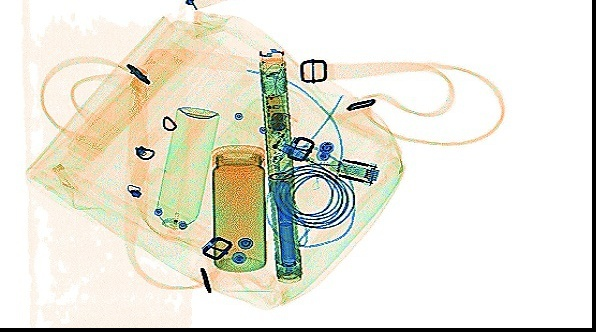pressure: (154, 104, 219, 227)
